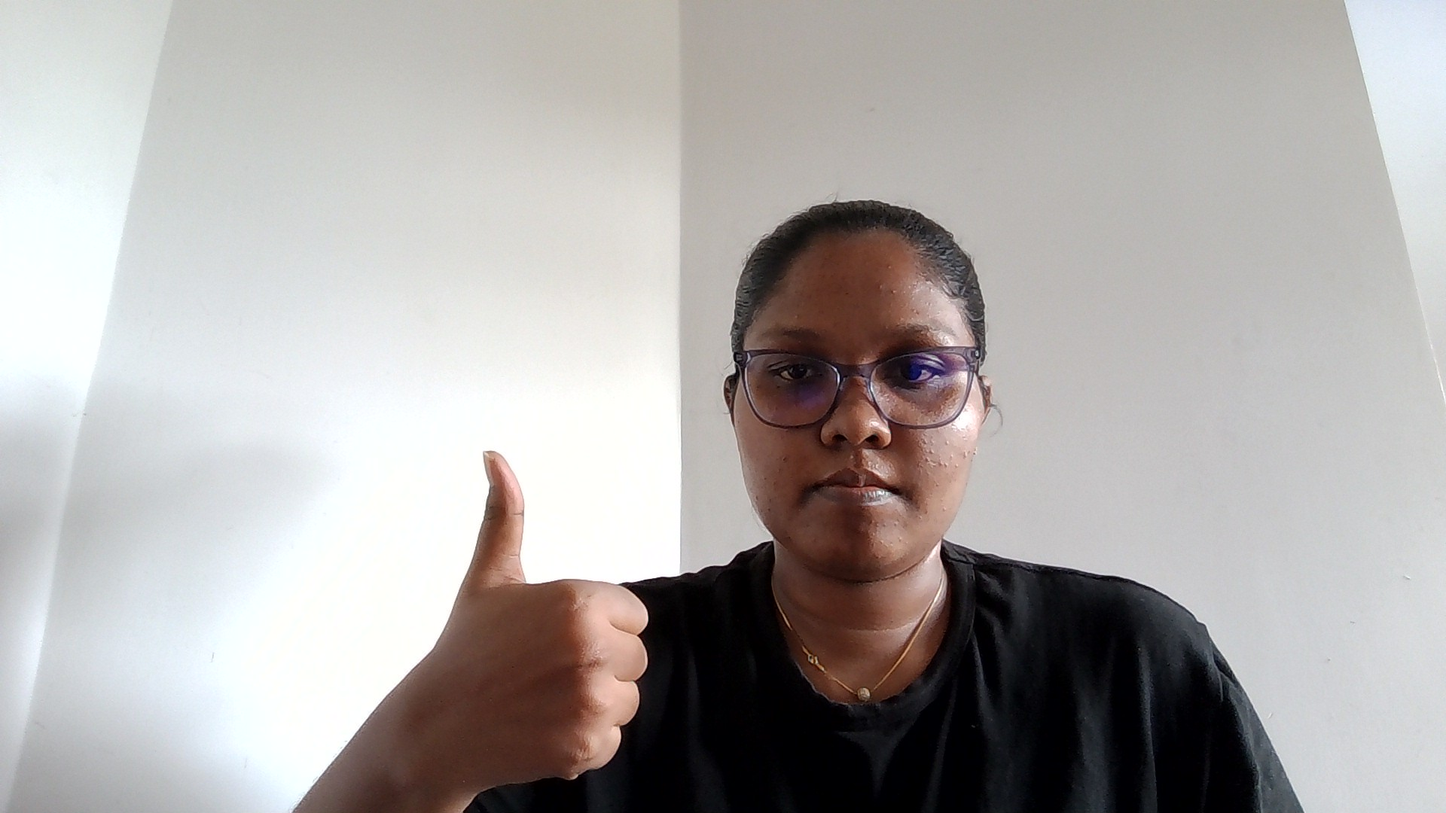Thumbs Up: (328, 442, 711, 813)
